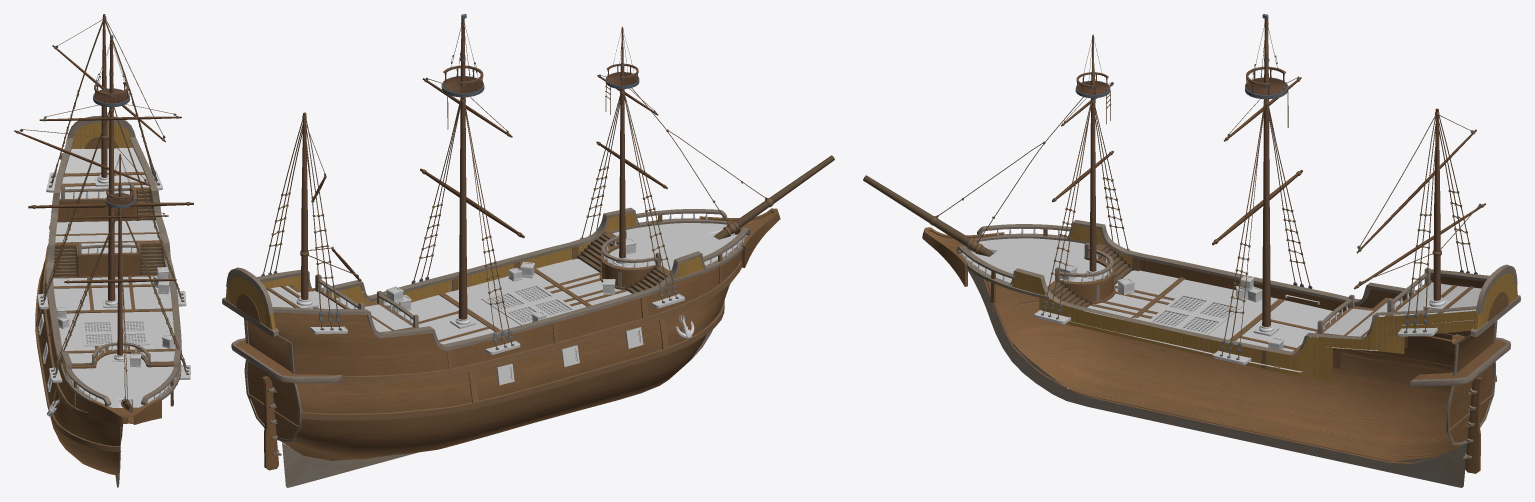
File: pref_sce_081501_boat02_a_lv3.fbx
3 renders of one model, left to right at view 1: azimuth 30°, elevation 25°; view 2: azimuth 150°, elevation 25°; view 3: azimuth 270°, elevation 25°, orthographic. The views are drawn at different scales.
Parts seen in each view (by area): view 1: lobby_cinderace_boat02_lv3, lobby_cinderace_boat02_a_lv3, lobbycinderace_mast02_lv3, lobbycinderace_mast02_a_lv3; view 2: lobby_cinderace_boat02_lv3, lobby_cinderace_boat02_a_lv3, lobbycinderace_mast02_lv3, lobbycinderace_mast02_a_lv3; view 3: lobby_cinderace_boat02_lv3, lobby_cinderace_boat02_a_lv3, lobbycinderace_mast02_lv3, lobbycinderace_mast02_a_lv3.
Boxes of the visible parts, left/top/right/bottom form: lobby_cinderace_boat02_lv3: left=35, top=115, right=181, bottom=487; lobby_cinderace_boat02_a_lv3: left=37, top=147, right=190, bottom=416; lobbycinderace_mast02_lv3: left=14, top=14, right=193, bottom=409; lobbycinderace_mast02_a_lv3: left=20, top=35, right=189, bottom=377; lobby_cinderace_boat02_lv3: left=222, top=155, right=834, bottom=487; lobby_cinderace_boat02_a_lv3: left=267, top=213, right=743, bottom=385; lobbycinderace_mast02_lv3: left=261, top=19, right=773, bottom=349; lobbycinderace_mast02_a_lv3: left=261, top=14, right=678, bottom=349; lobby_cinderace_boat02_lv3: left=863, top=175, right=1520, bottom=487; lobby_cinderace_boat02_a_lv3: left=962, top=229, right=1481, bottom=372; lobbycinderace_mast02_lv3: left=930, top=19, right=1485, bottom=359; lobbycinderace_mast02_a_lv3: left=1041, top=14, right=1481, bottom=359.
Size of the model in its own units: 24.28 by 31.16 by 42.89.
